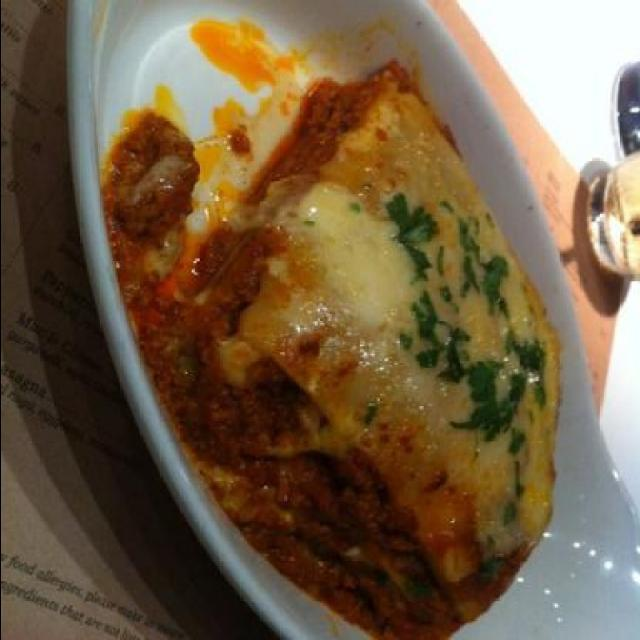Lasagna: (167, 70, 578, 562)
